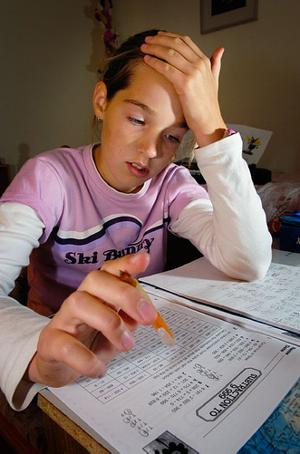person: (2, 29, 274, 416)
